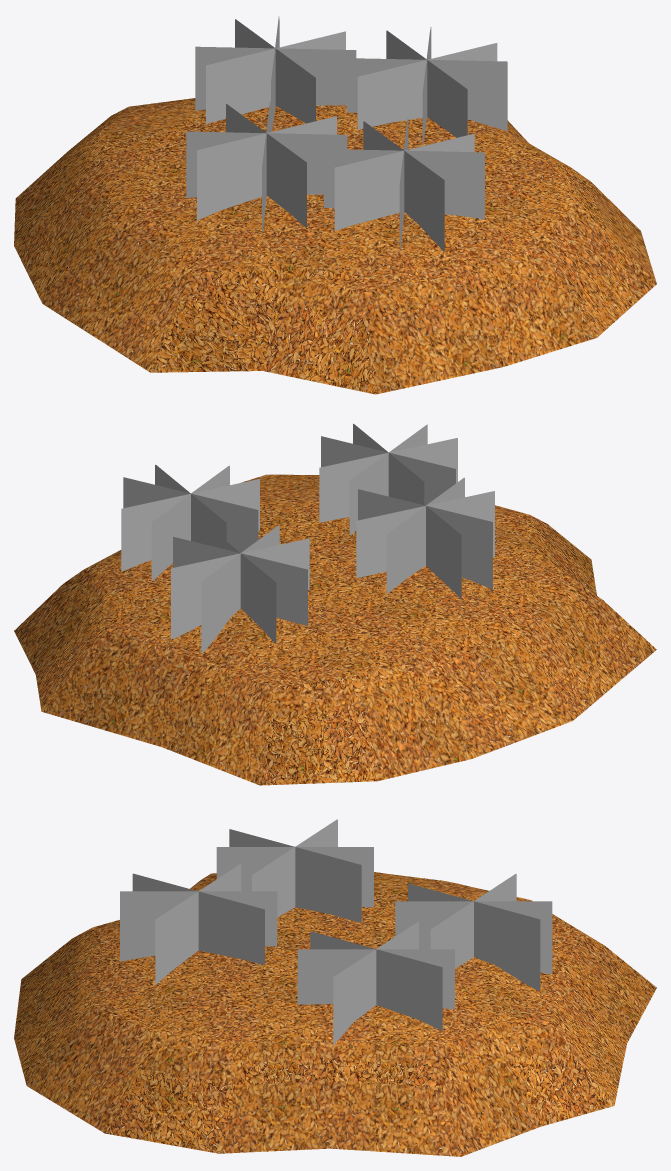
Rendered from flamable.fbx.
3 views of the same model, one above another, from view 1: azimuth 30°, elevation 25°; view 2: azimuth 150°, elevation 25°; view 3: azimuth 270°, elevation 25° (orthographic). The views are drawn at different scales.
Visible parts, largest first — view 1: Sphere; view 2: Sphere; view 3: Sphere.
Boxes of the visible parts, bbox=[...] form: Sphere: bbox=[14, 16, 656, 394]; Sphere: bbox=[14, 423, 656, 785]; Sphere: bbox=[14, 819, 656, 1156].
Bounding box in the file's own units: 1181 × 321 × 1272.
